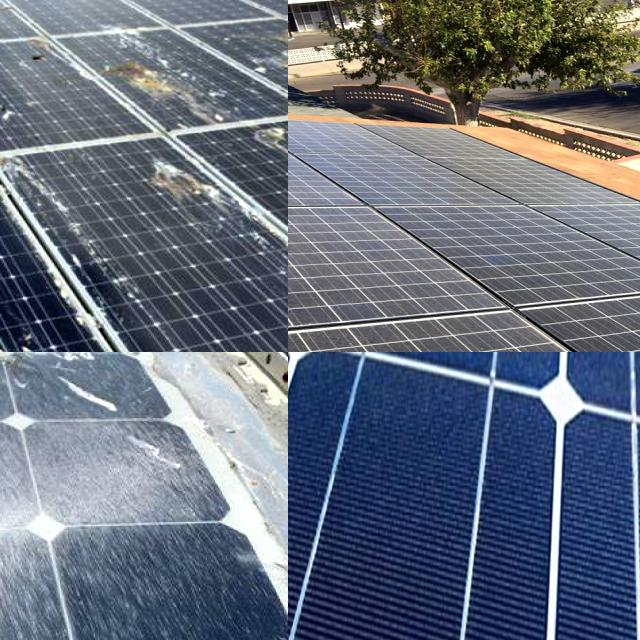bird: (0, 352, 113, 442), (132, 148, 260, 224), (84, 65, 243, 124), (0, 184, 55, 255), (236, 14, 288, 75), (8, 23, 62, 66), (0, 75, 41, 126), (0, 124, 36, 167), (0, 379, 38, 415), (0, 65, 31, 103), (259, 121, 288, 161), (0, 285, 30, 309)
crack: (288, 352, 569, 640), (547, 383, 640, 640)
dust: (288, 212, 348, 330), (378, 256, 468, 326)
